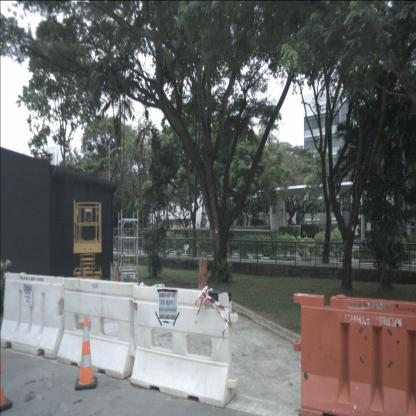movable_object-barrier: (292, 292, 416, 416), (130, 283, 238, 409), (56, 276, 139, 380), (0, 271, 65, 360), (195, 257, 210, 302)
movable_object-trafficcone: (74, 316, 98, 391), (0, 348, 13, 413), (111, 270, 125, 309), (78, 267, 92, 306), (128, 270, 140, 310)
